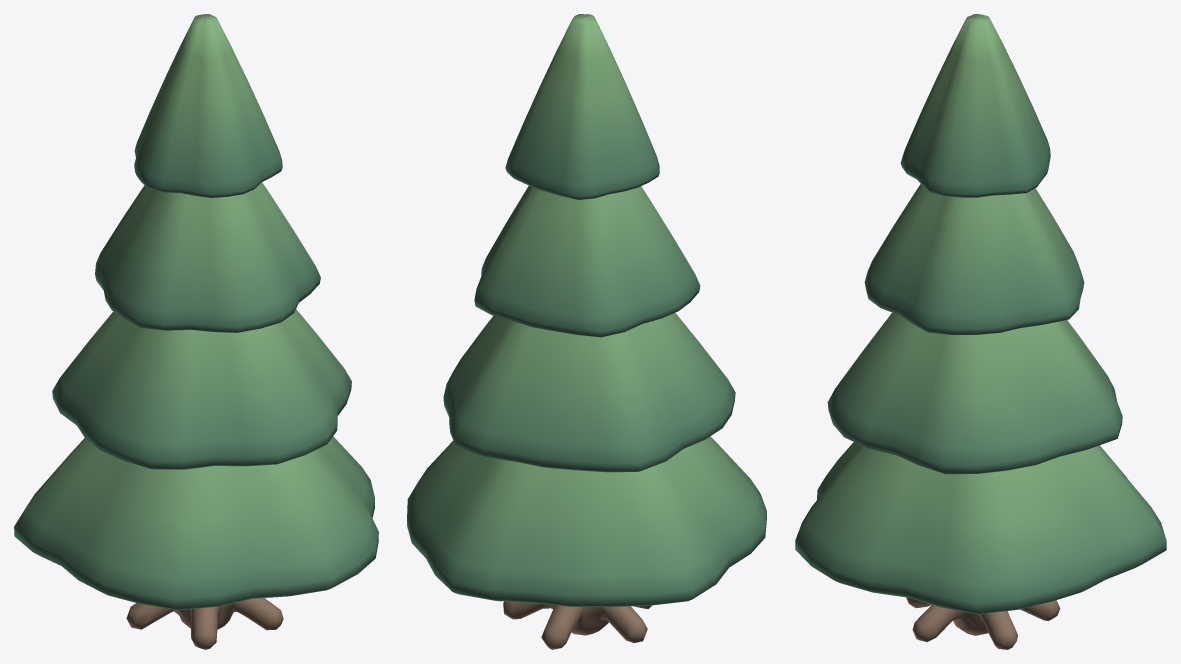
File: Tree_Pine_1.fbx
The picture shows the model from 3 angles, left to right: view 1: azimuth 30°, elevation 25°; view 2: azimuth 150°, elevation 25°; view 3: azimuth 270°, elevation 25°; orthographic projection.
Visible parts, largest first — view 1: Tree_Pine_1; view 2: Tree_Pine_1; view 3: Tree_Pine_1.
Part boxes in pixels (x1,y1,x2,y2): Tree_Pine_1: (14, 14, 378, 649); Tree_Pine_1: (407, 14, 766, 649); Tree_Pine_1: (795, 14, 1166, 649).
Bounding box in the file's own units: 3.63 × 6.68 × 3.66.
